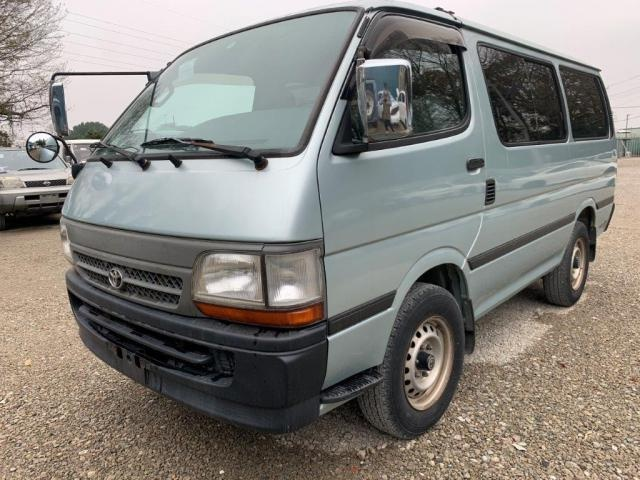van: (54, 5, 618, 435)
